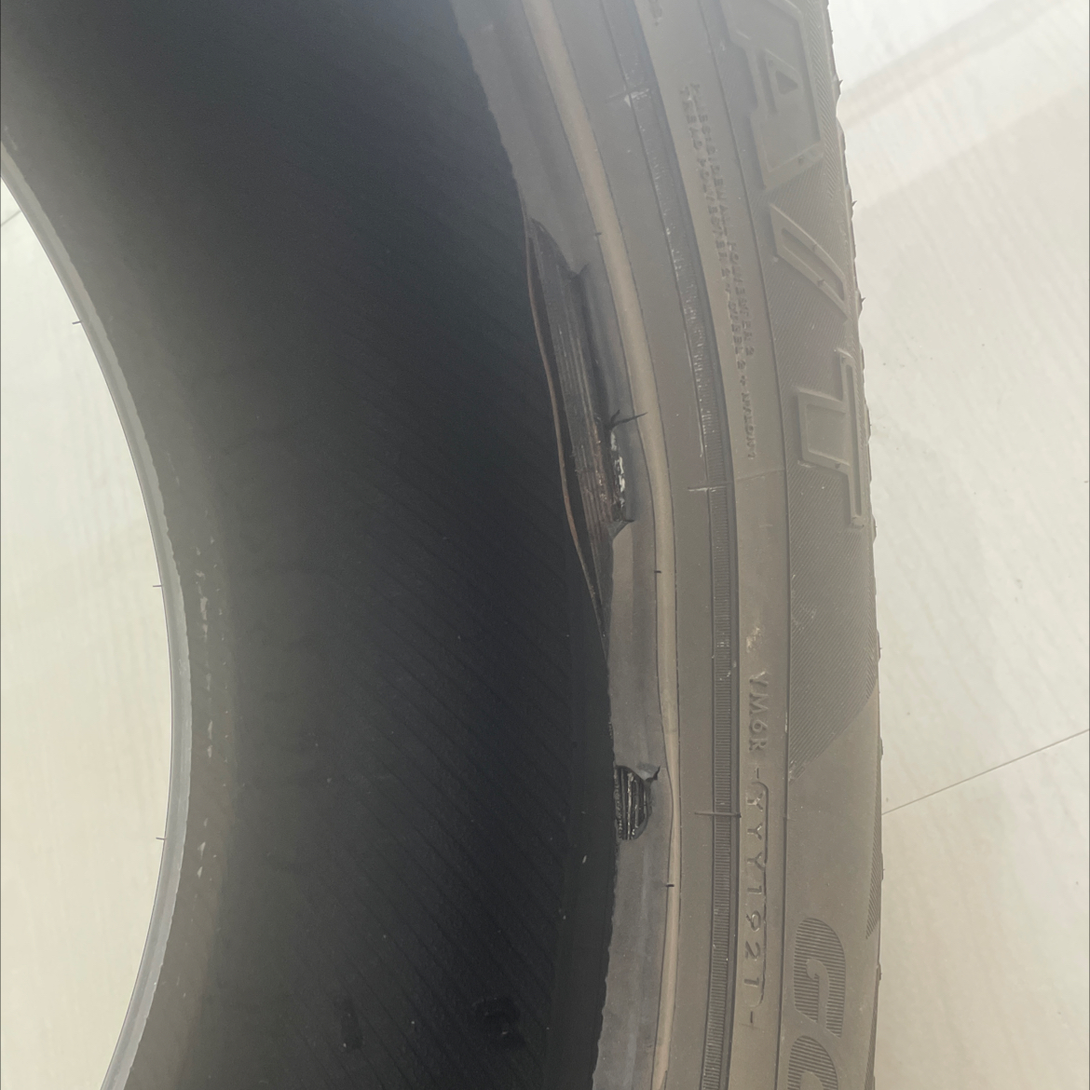bead_damage: (516, 184, 658, 668), (611, 740, 664, 858)
